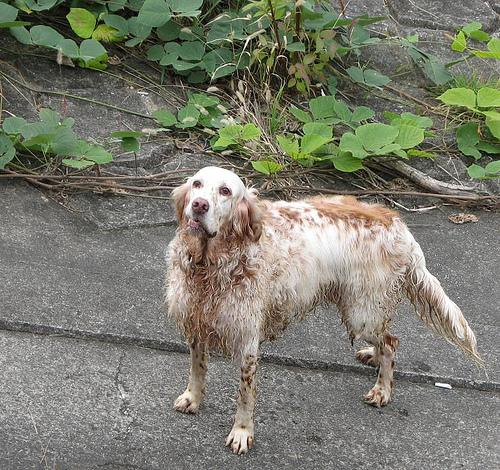dog-english_setter: (170, 165, 259, 238)
